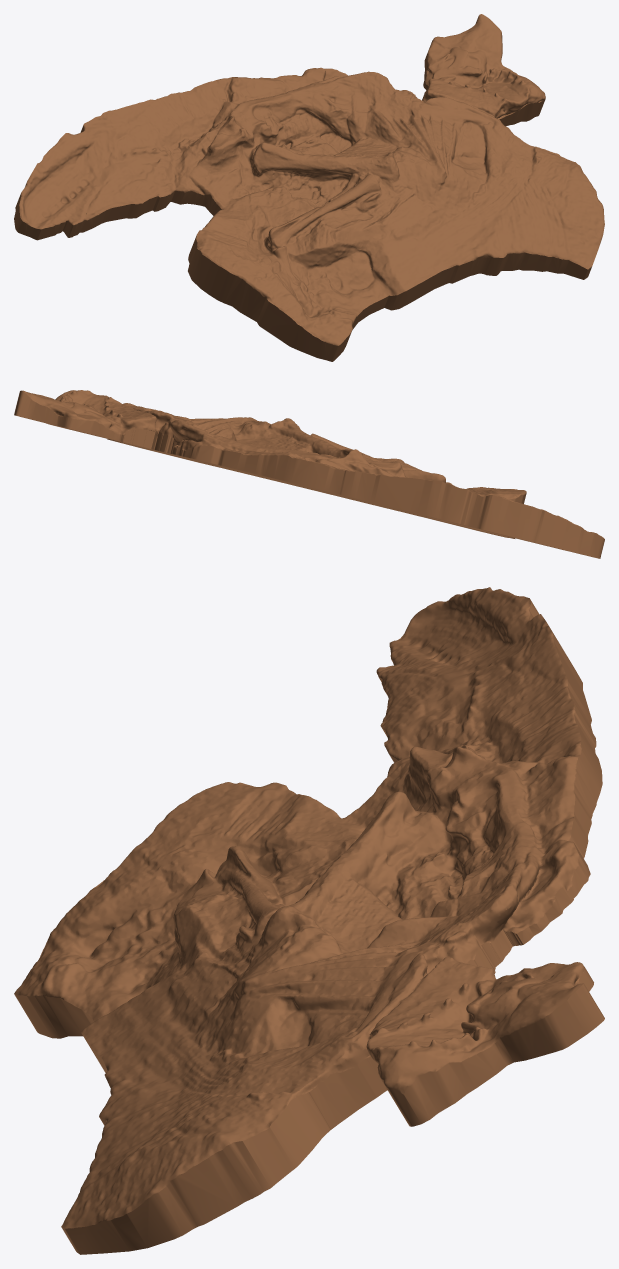
Rendered from parasaurolophus.glb.
3 views of the same model, one above another, from view 1: azimuth 30°, elevation 25°; view 2: azimuth 150°, elevation 25°; view 3: azimuth 270°, elevation 25° (orthographic). The views are drawn at different scales.
Visible parts, largest first — view 1: Object_4, Object_3, Object_2, Object_5; view 2: Object_2, Object_5, Object_3, Object_4; view 3: Object_4, Object_5, Object_2, Object_3.
Part boxes in pixels (bbox=[...]): Object_4: bbox=[55, 33, 604, 361]; Object_3: bbox=[34, 36, 541, 327]; Object_2: bbox=[14, 14, 502, 310]; Object_5: bbox=[19, 16, 604, 361]; Object_2: bbox=[14, 390, 604, 558]; Object_5: bbox=[25, 390, 595, 533]; Object_3: bbox=[52, 399, 540, 538]; Object_4: bbox=[51, 403, 452, 484]; Object_4: bbox=[14, 638, 573, 1227]; Object_5: bbox=[14, 587, 591, 1254]; Object_2: bbox=[82, 587, 604, 1091]; Object_3: bbox=[49, 589, 579, 1145].
Size of the model in its own units: 1.55 by 0.4897 by 0.8156.
